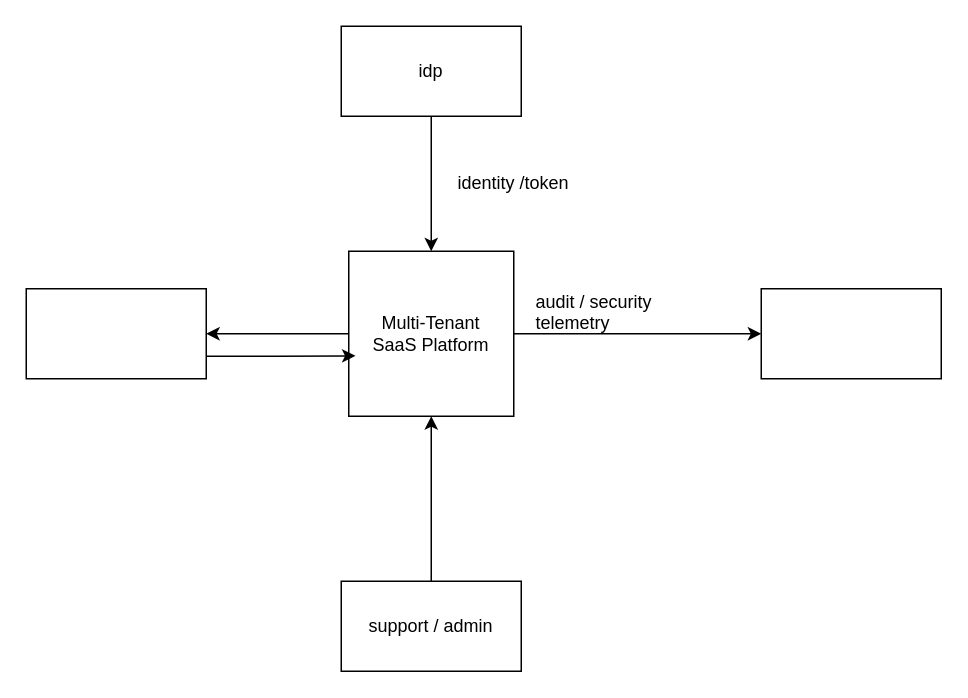
Image size: 968x698. Some labels were removed from this diagram. The centre of each missing label's shape, as x and y in pixels:
"siem" belongs at (850,333).
"user/ org members" belongs at (115,333).
